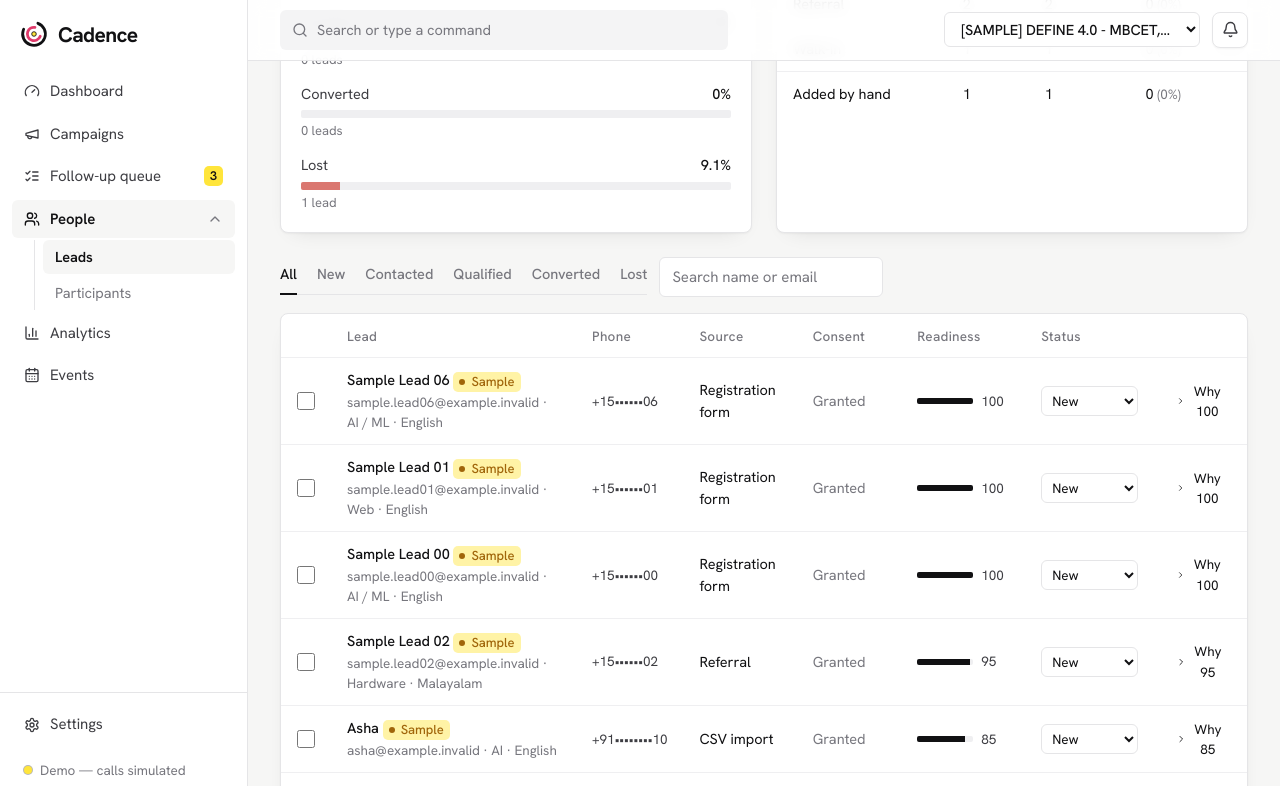
every page renders against real recorded API data › leads (pipeline, sources, readiness)
(page scrolled)
Step 1. Click the button "Why 100" in the row of "Sample Lead 06" → x=1201, y=401, box [1170,379,1231,423]
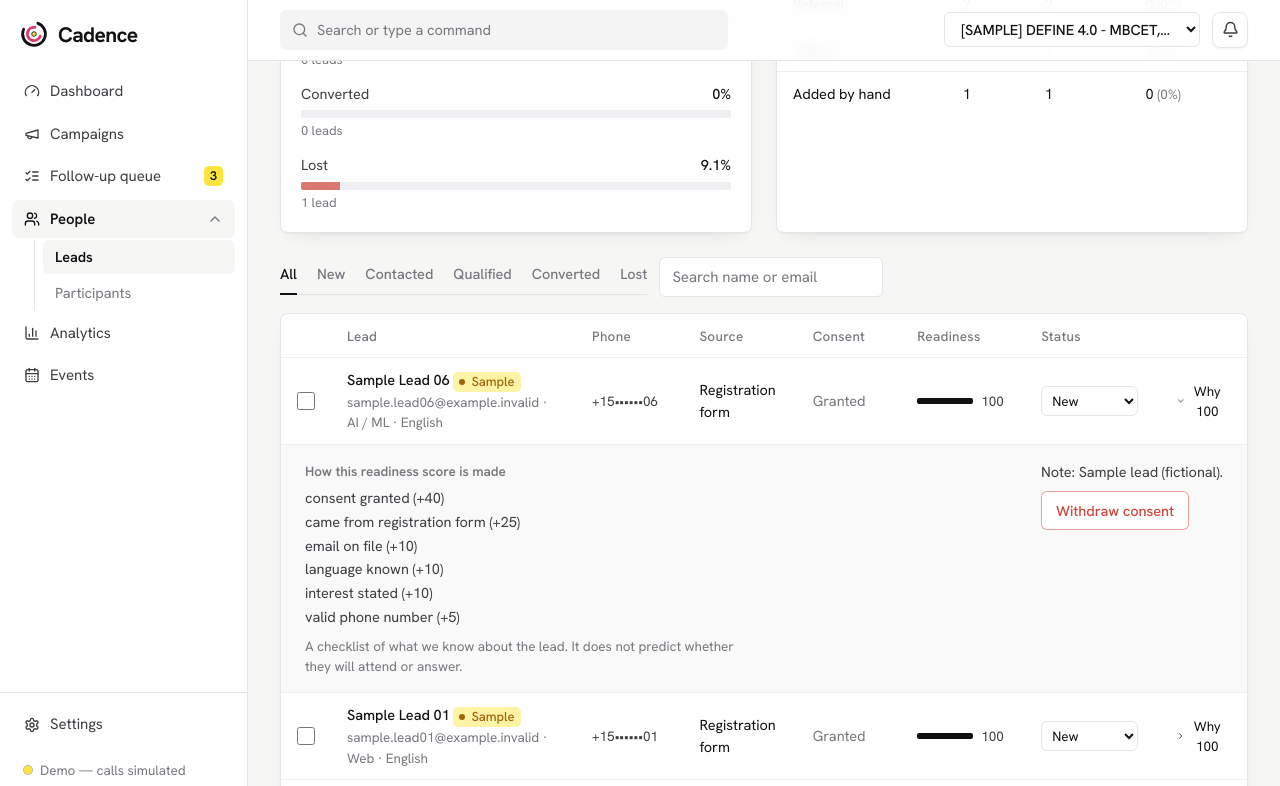
expect the text "How this readiness score is made" is shown: met, box [305,462,506,480]
expect the text "does not predict" is shown: met, box [305,637,734,675]
